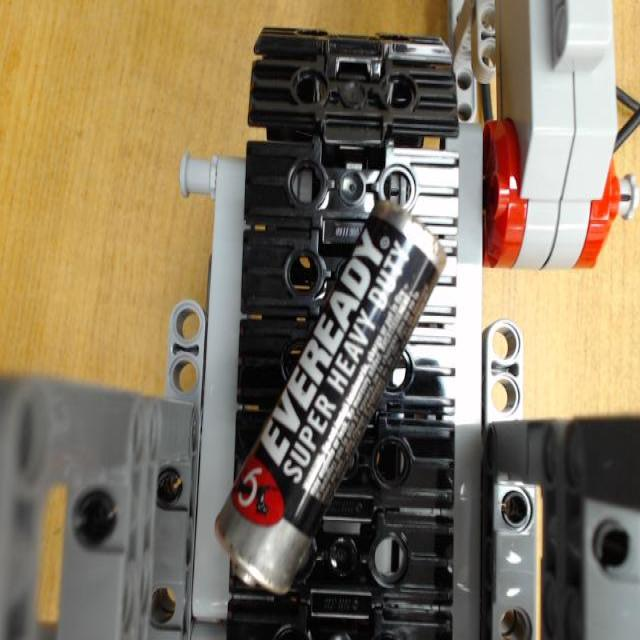AA: (212, 200, 446, 597)
